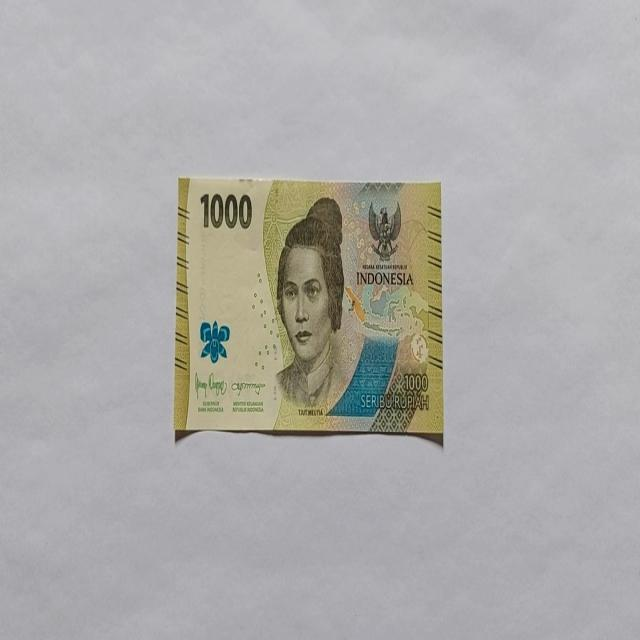seribu rupiah kertas: (173, 174, 443, 441)
